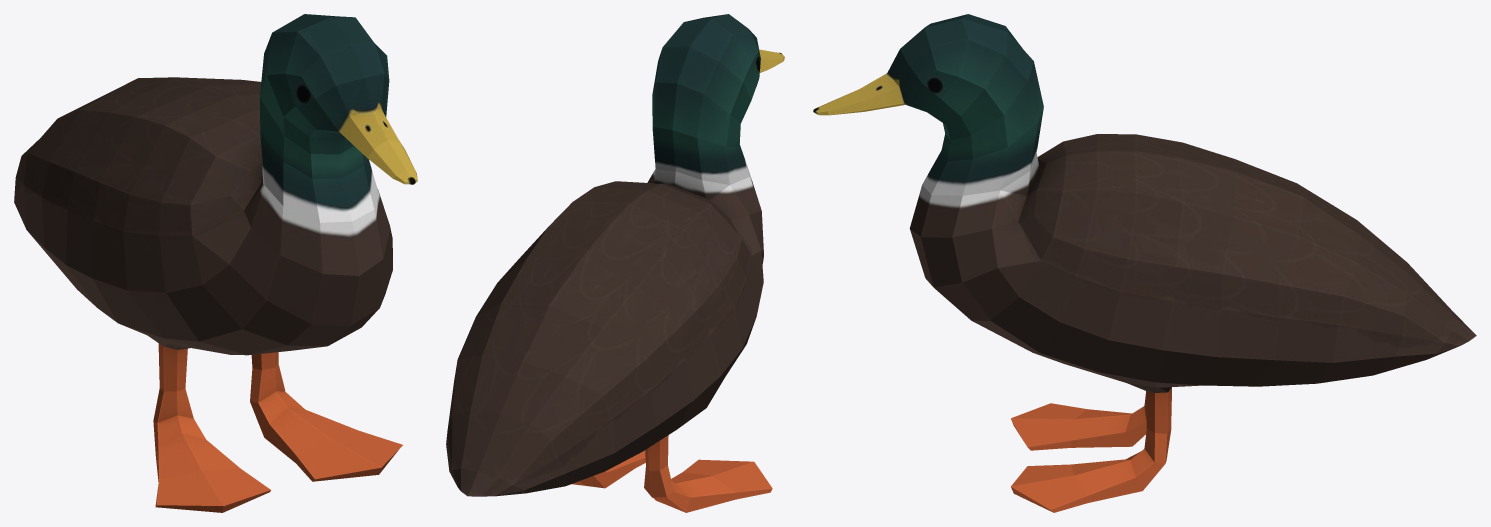
The model's file is pato.glb.
3 views of the same model, side by side, from view 1: azimuth 30°, elevation 25°; view 2: azimuth 150°, elevation 25°; view 3: azimuth 270°, elevation 25° (orthographic). The views are drawn at different scales.
Parts seen in each view (by area): view 1: MallardDuck_Mesh; view 2: MallardDuck_Mesh; view 3: MallardDuck_Mesh.
Part boxes in pixels (x1=…): MallardDuck_Mesh: x1=14, y1=14, x2=417, y2=512; MallardDuck_Mesh: x1=446, y1=14, x2=784, y2=512; MallardDuck_Mesh: x1=813, y1=14, x2=1476, y2=512.
Size of the model in its own units: 0.9816 by 1.87 by 2.55.
Materials: 1 (1 with a texture image).
